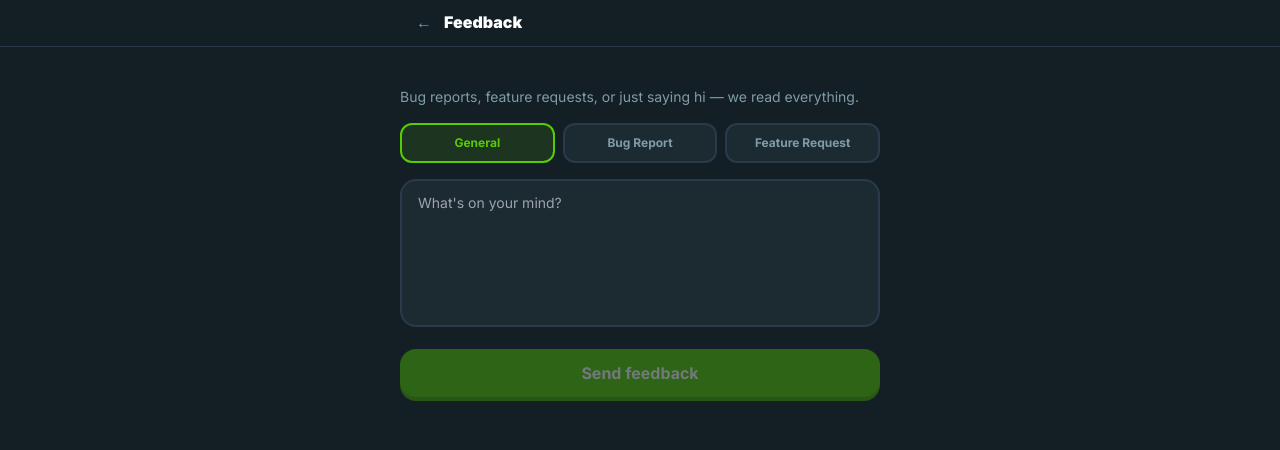
Test: Feedback Page › shows character count hint when text < 10 chars
This screenshot has width=1280, height=450.
Type "hello" into the text box with placeholder "What's on your mind?" at (640, 253), box [400,179,880,327]
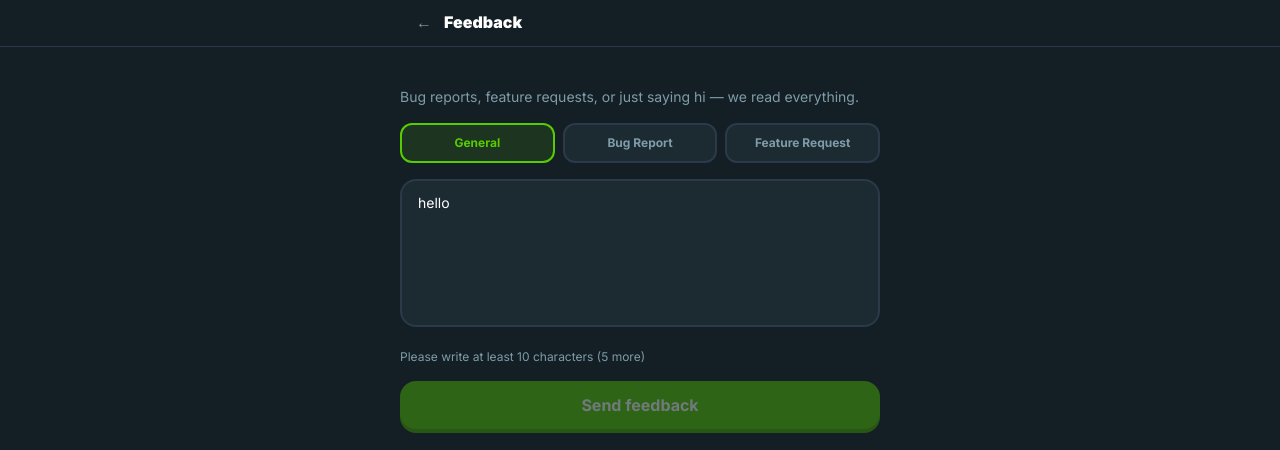
Expected: the text "Please write at least 10 characters (5 more)" is shown, [400,349,645,364]
